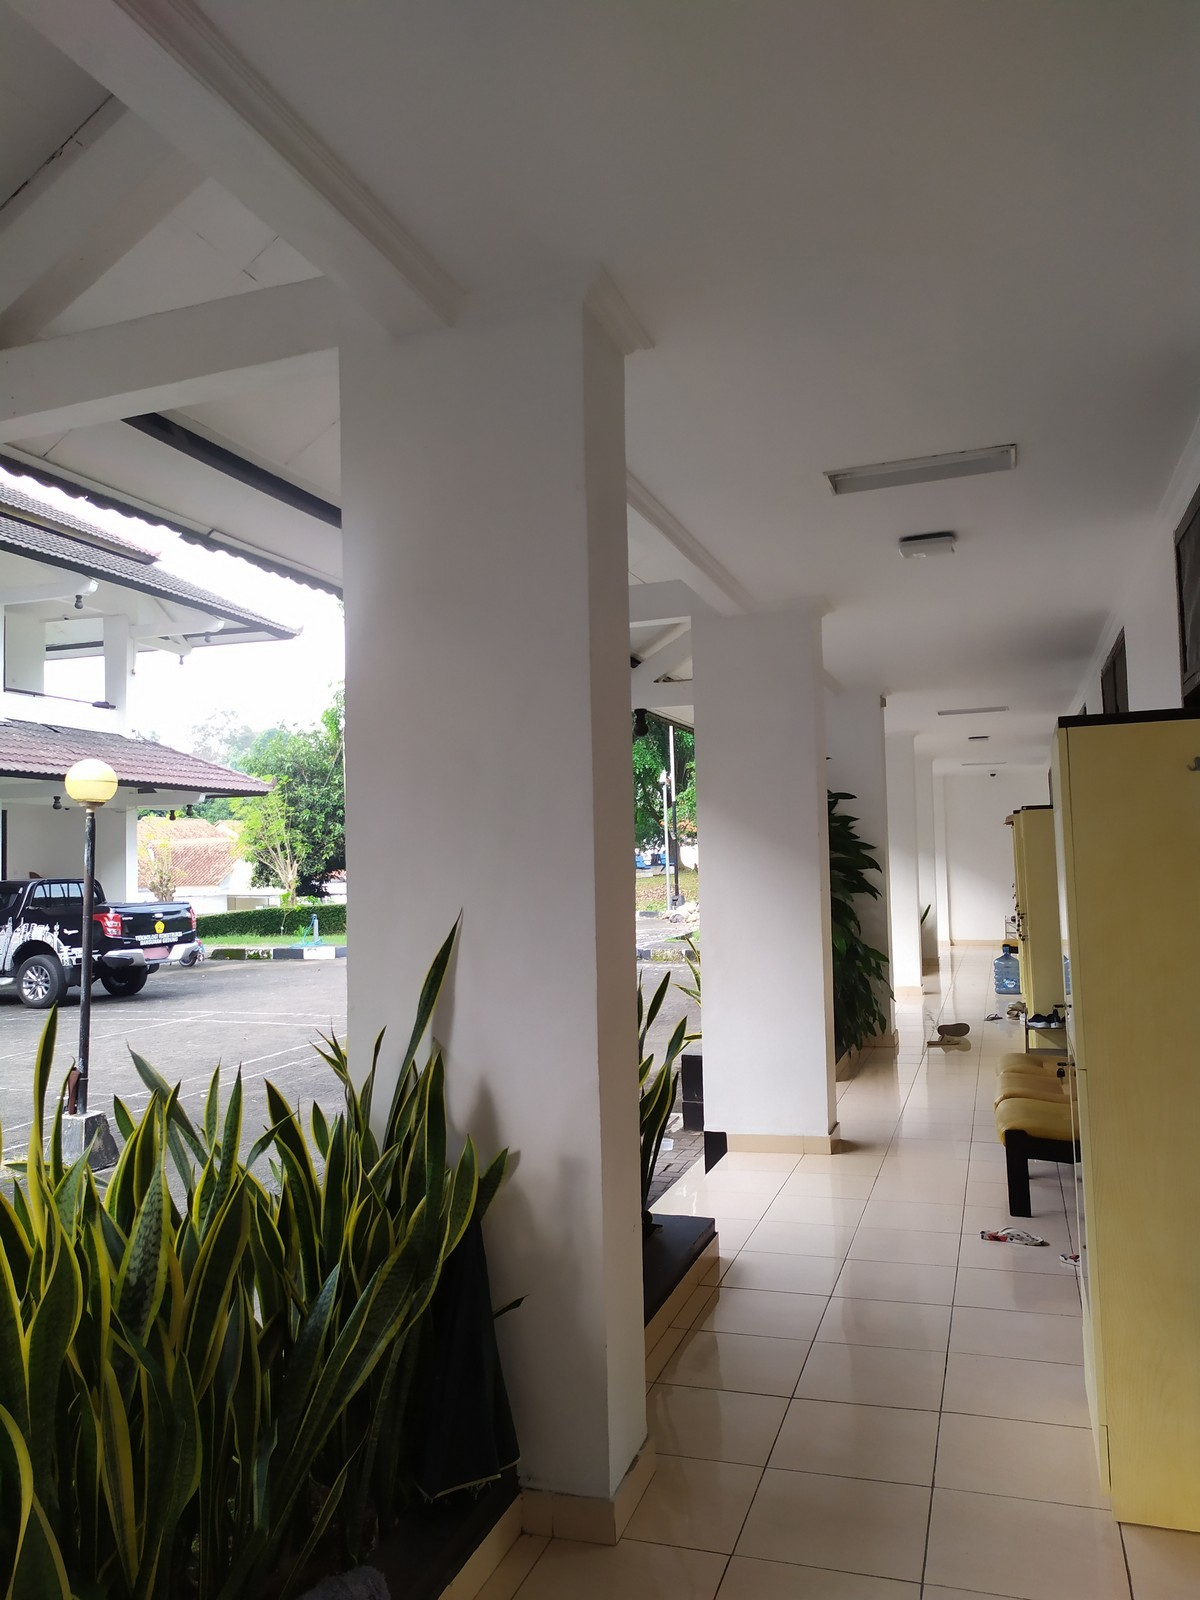concrete beam: (30, 277, 345, 432)
concrete column: (321, 278, 677, 1548), (687, 603, 846, 1163)
